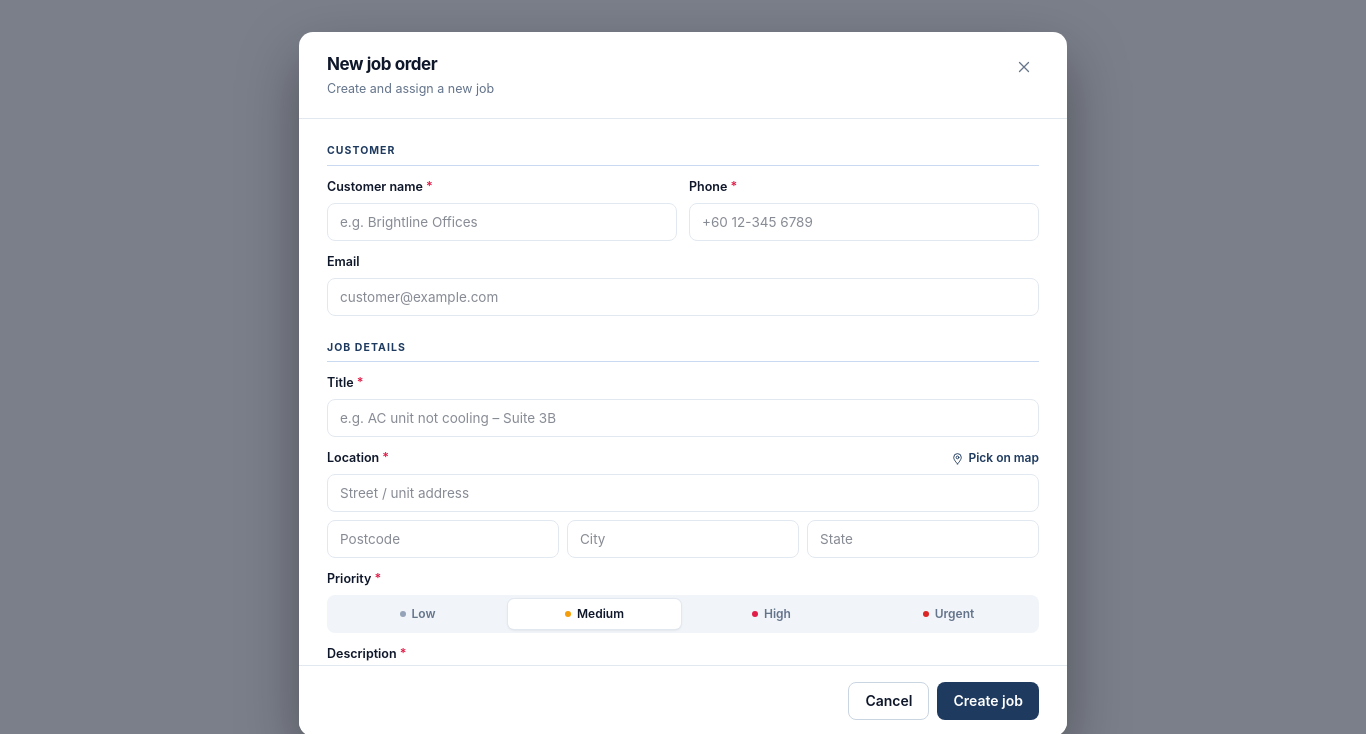
CreateJobModal — job order form › shows validation errors for required fields on empty submit
What coordinates should you click on to do the following:
click the button "Create job"
I would click on:
 (988, 701)
Its box is [937,682,1039,720].
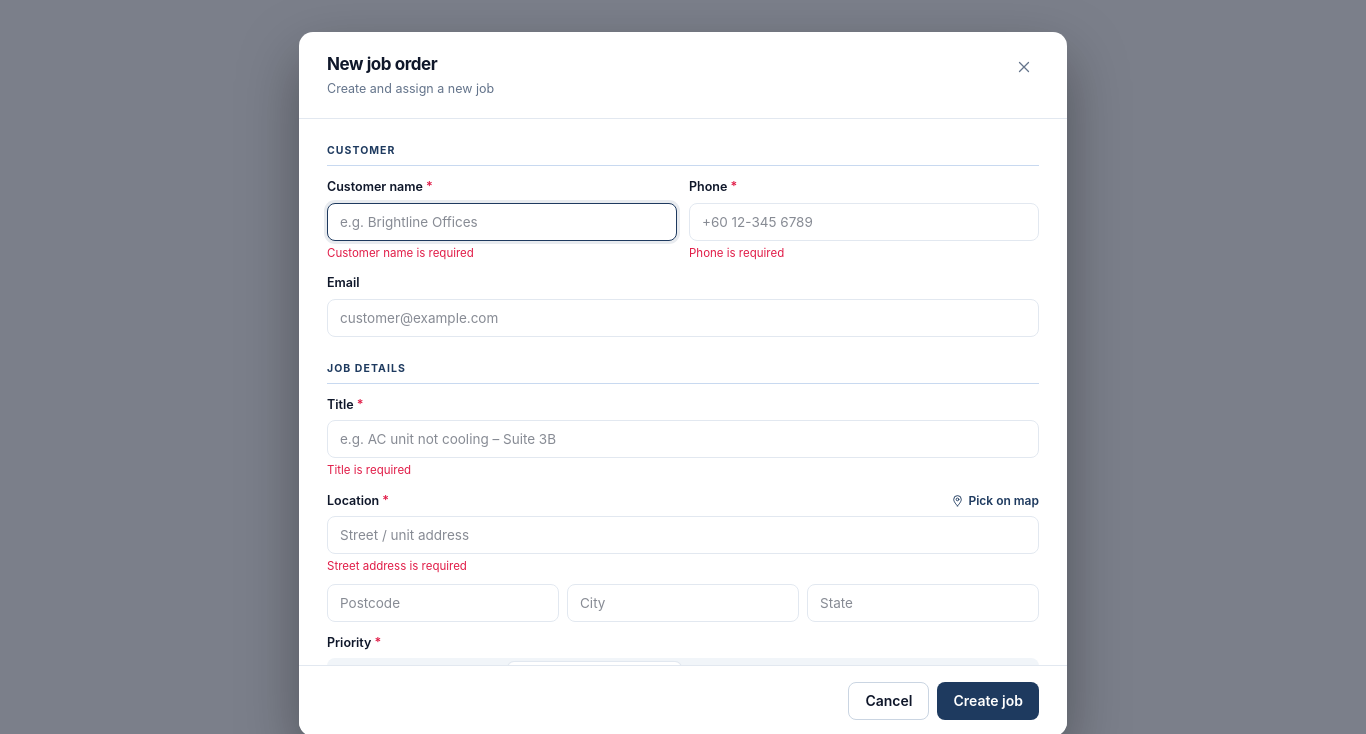
Expected: the text "Title is required" is shown, [327,463,411,477]
Expected: the text "Customer name is required" is shown, [327,246,474,260]
Expected: the text "Street address is required" is shown, [327,559,467,573]
